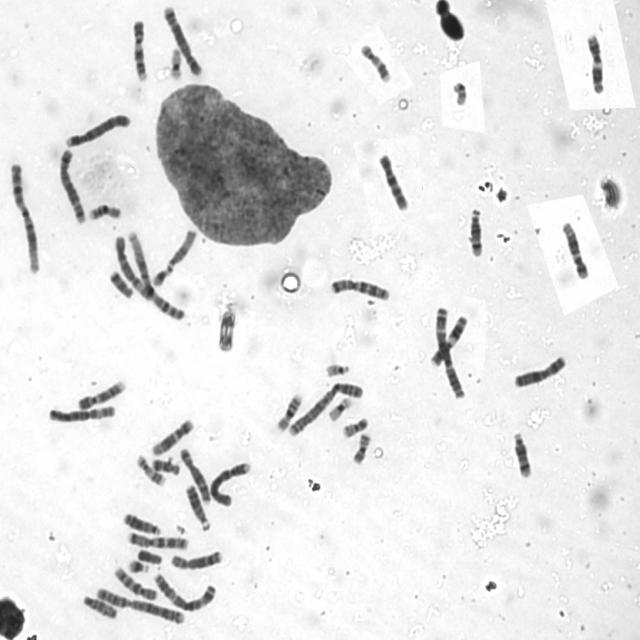A1: (124, 229, 188, 322), (8, 159, 42, 276)
A2: (286, 377, 365, 438), (92, 582, 187, 626)
A3: (432, 302, 468, 401), (150, 568, 218, 613)
B4: (62, 108, 132, 149), (205, 457, 252, 508)
B5: (160, 0, 204, 77), (56, 144, 89, 224)
C10: (375, 148, 410, 212), (111, 561, 161, 602)
C11: (427, 311, 469, 368), (584, 29, 606, 94)
C12: (560, 216, 591, 280), (149, 414, 196, 456)
C6: (110, 234, 154, 302), (45, 400, 118, 424)
C7: (327, 274, 392, 302), (125, 528, 191, 550)
C8: (176, 444, 212, 504), (168, 545, 225, 571)
C9: (74, 375, 128, 411), (130, 16, 150, 82)
D13: (183, 480, 213, 532), (121, 508, 162, 536)
D14: (509, 427, 534, 479), (466, 202, 486, 258)
D15: (164, 225, 198, 272), (79, 591, 119, 620)
E16: (274, 389, 304, 432), (85, 199, 124, 222)
E17: (358, 40, 393, 84), (133, 450, 167, 487)
E18: (106, 266, 136, 300), (149, 454, 182, 476)
F19: (326, 392, 354, 422), (167, 43, 184, 81)
F20: (350, 428, 373, 465), (340, 412, 370, 439)
G21: (150, 261, 171, 288), (124, 556, 150, 574)
G22: (449, 76, 470, 106), (323, 358, 352, 378)
X: (510, 350, 568, 390)
Y: (135, 545, 164, 566)
